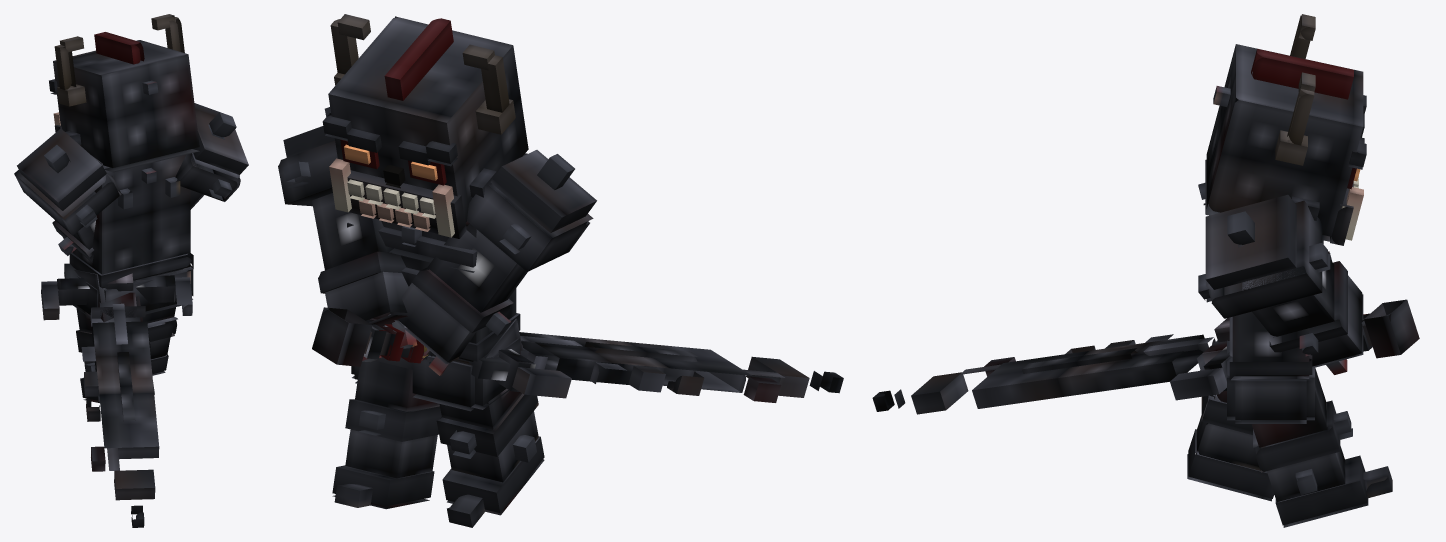
The model's file is armadura.obj.
3 views of the same model, side by side, from view 1: azimuth 30°, elevation 25°; view 2: azimuth 150°, elevation 25°; view 3: azimuth 270°, elevation 25° (orthographic). The views are drawn at different scales.
Parts seen in each view (by area): view 1: capacete, peitoral, lamina_base, ombreira_alta_direita, ombreira_baixa_direita, ombreira_alta_esquerda, ombreira_baixa_esquerda, cinto, espinha, lamina_ponta_1, crista, quilao_direita (+25 smaller); view 2: capacete, lamina_base, ombreira_baixa_direita, ombreira_alta_direita, braco_superior_direita, braco_superior_esquerda, canela_esquerda, antebraco_direita, antebraco_esquerda, saiote_frente, bota_direita, crista (+32 smaller); view 3: capacete, lamina_base, ombreira_alta_esquerda, ombreira_baixa_esquerda, saiote_lado_esquerda, braco_superior_esquerda, bota_esquerda, crista, peitoral, bota_direita, joelheira_esquerda, pomo (+15 smaller).
Boxes of the visible parts, x1=… form: capacete: x1=53, y1=40, x2=199, y2=172; peitoral: x1=72, y1=155, x2=190, y2=288; lamina_base: x1=90, y1=306, x2=159, y2=459; ombreira_alta_direita: x1=17, y1=128, x2=106, y2=210; ombreira_baixa_direita: x1=14, y1=170, x2=121, y2=235; ombreira_alta_esquerda: x1=192, y1=103, x2=248, y2=174; ombreira_baixa_esquerda: x1=175, y1=153, x2=240, y2=201; cinto: x1=69, y1=252, x2=193, y2=289; espinha: x1=112, y1=303, x2=135, y2=421; lamina_ponta_1: x1=114, y1=469, x2=155, y2=500; crista: x1=94, y1=32, x2=144, y2=64; quilao_direita: x1=136, y1=275, x2=175, y2=302; capacete: x1=328, y1=16, x2=528, y2=226; lamina_base: x1=519, y1=332, x2=751, y2=392; ombreira_baixa_direita: x1=467, y1=184, x2=593, y2=271; ombreira_alta_direita: x1=490, y1=150, x2=596, y2=232; braco_superior_direita: x1=426, y1=230, x2=527, y2=312; braco_superior_esquerda: x1=312, y1=193, x2=393, y2=270; canela_esquerda: x1=345, y1=429, x2=437, y2=478; antebraco_direita: x1=388, y1=283, x2=478, y2=364; antebraco_esquerda: x1=325, y1=271, x2=408, y2=326; saiote_frente: x1=354, y1=355, x2=474, y2=411; bota_direita: x1=442, y1=436, x2=544, y2=515; crista: x1=384, y1=18, x2=453, y2=100; capacete: x1=1205, y1=44, x2=1363, y2=241; lamina_base: x1=972, y1=334, x2=1205, y2=408; ombreira_alta_esquerda: x1=1205, y1=194, x2=1296, y2=289; ombreira_baixa_esquerda: x1=1206, y1=200, x2=1322, y2=318; saiote_lado_esquerda: x1=1235, y1=380, x2=1306, y2=423; braco_superior_esquerda: x1=1242, y1=260, x2=1334, y2=337; bota_esquerda: x1=1275, y1=455, x2=1368, y2=527; crista: x1=1251, y1=49, x2=1353, y2=99; peitoral: x1=1232, y1=311, x2=1309, y2=378; bota_direita: x1=1187, y1=429, x2=1274, y2=501; joelheira_esquerda: x1=1253, y1=400, x2=1340, y2=472; pomo: x1=1364, y1=299, x2=1419, y2=358.
Size of the model in its own units: 1.68 by 2.25 by 2.45.
Materials: 1 (1 with a texture image).
